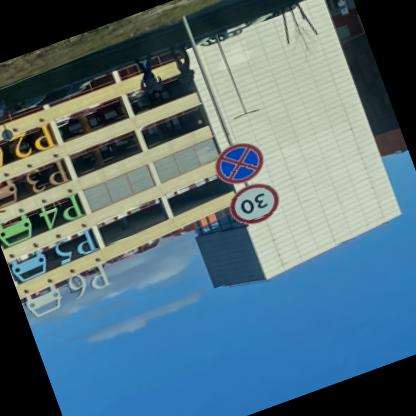speedlimit: (228, 177, 288, 230)
